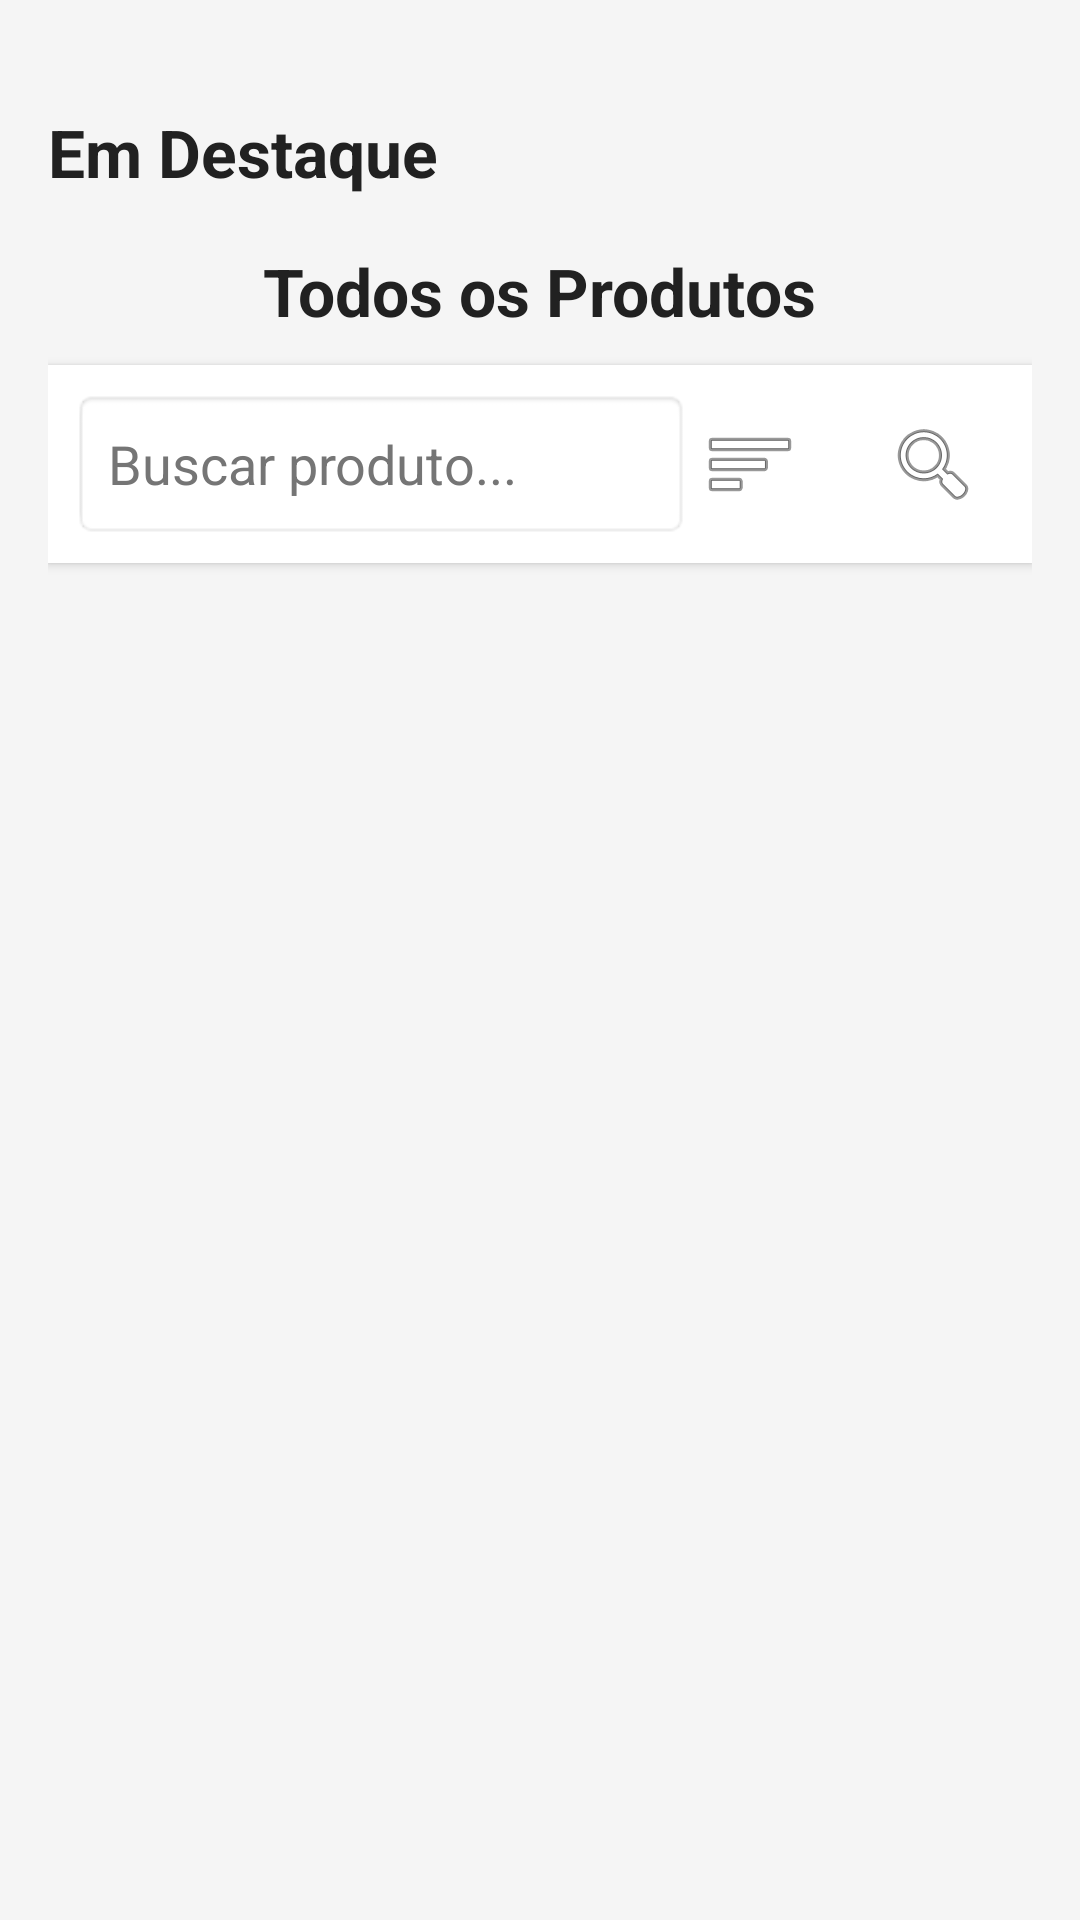

Where icons sit on this 1080*1920 app screen, as rect(x1, y1, x2, y2):
Buscar: rect(897, 429, 969, 500)
Filtrar: rect(709, 438, 791, 491)
